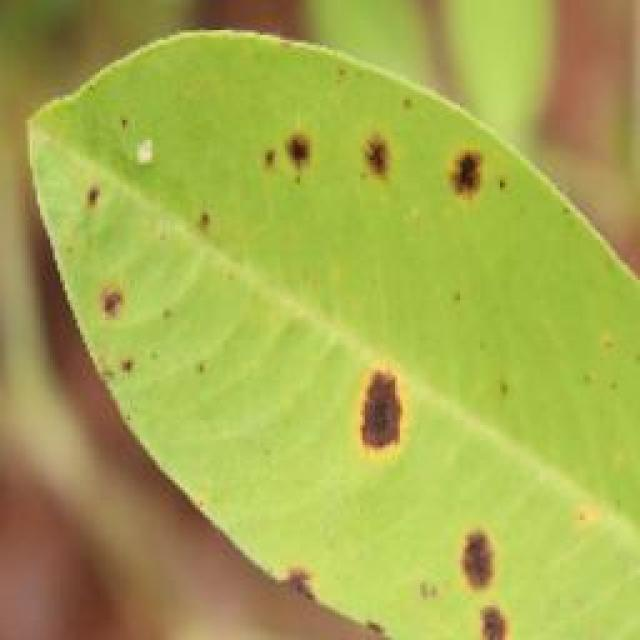Early_leaf_spot: (52, 142, 176, 375), (310, 332, 414, 486), (425, 487, 517, 640), (406, 107, 497, 226), (334, 99, 406, 204), (274, 546, 354, 628), (257, 104, 324, 196), (192, 188, 227, 250)
